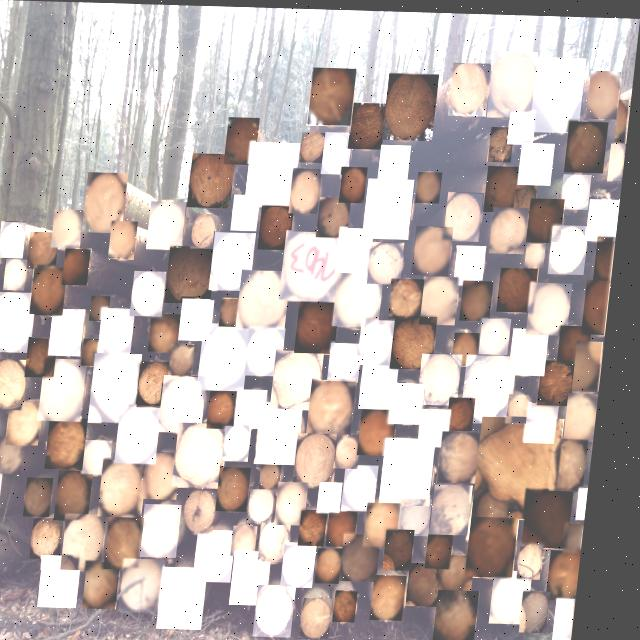wood-log: (488, 416, 571, 515), (290, 231, 348, 298), (536, 55, 586, 128), (472, 353, 524, 420), (393, 436, 443, 504), (388, 72, 438, 138), (100, 353, 147, 421), (207, 322, 255, 388), (186, 423, 237, 485), (252, 141, 300, 206), (492, 49, 537, 114), (281, 349, 330, 407), (481, 513, 528, 573), (245, 270, 294, 327), (173, 566, 218, 628), (369, 177, 416, 236), (50, 358, 94, 420), (268, 401, 311, 463), (536, 487, 582, 543), (173, 246, 219, 301), (318, 379, 363, 435), (170, 375, 214, 431), (312, 66, 356, 122), (89, 172, 130, 232), (112, 459, 155, 516), (193, 153, 238, 207), (0, 292, 41, 351), (217, 232, 259, 289), (342, 272, 388, 324), (127, 406, 169, 462), (399, 314, 443, 367), (135, 558, 177, 611), (76, 514, 116, 569), (449, 588, 491, 640), (305, 432, 346, 485), (535, 280, 576, 332), (304, 300, 345, 350), (53, 555, 93, 606), (428, 351, 468, 402), (505, 568, 544, 620), (245, 549, 282, 603), (57, 418, 96, 469), (451, 429, 490, 480), (443, 482, 482, 532), (154, 504, 192, 555), (208, 529, 246, 580), (570, 118, 608, 169), (270, 583, 307, 634), (452, 61, 489, 112), (119, 516, 155, 568), (420, 225, 457, 273), (154, 200, 190, 249), (0, 359, 35, 409), (255, 326, 292, 373), (563, 436, 597, 487), (556, 223, 592, 271), (355, 532, 391, 579), (450, 191, 486, 238), (428, 274, 463, 322), (495, 205, 532, 250), (489, 163, 525, 209), (68, 470, 101, 520), (369, 361, 405, 406), (518, 326, 554, 371), (155, 452, 190, 498), (353, 101, 388, 147), (369, 407, 404, 453), (573, 389, 605, 438), (38, 268, 72, 314), (98, 561, 131, 608), (58, 308, 91, 355), (562, 547, 593, 597), (505, 265, 541, 308), (107, 308, 141, 353), (548, 357, 582, 402), (354, 463, 387, 509), (534, 195, 568, 239), (138, 270, 171, 315), (344, 226, 377, 271), (367, 318, 400, 363), (386, 573, 419, 618), (377, 501, 412, 543), (264, 204, 298, 247), (295, 541, 328, 585), (18, 402, 51, 445), (147, 361, 180, 404), (421, 560, 453, 604), (229, 117, 260, 162), (523, 140, 556, 182), (590, 68, 620, 114), (375, 241, 408, 282), (295, 167, 325, 212), (195, 489, 227, 531), (229, 467, 260, 510), (287, 480, 318, 523), (591, 277, 616, 330), (188, 299, 220, 340), (400, 381, 432, 422), (592, 197, 624, 238), (397, 276, 429, 316), (315, 596, 346, 637), (323, 195, 354, 235), (461, 242, 491, 283), (582, 338, 607, 387), (44, 518, 74, 558), (468, 278, 498, 318), (536, 400, 566, 440), (566, 322, 597, 360), (397, 528, 426, 568), (453, 553, 487, 587), (337, 342, 368, 379), (428, 407, 459, 444), (157, 313, 187, 351), (272, 521, 302, 559), (245, 389, 275, 426), (536, 588, 563, 629), (35, 338, 64, 376), (327, 130, 353, 172), (58, 210, 87, 247), (412, 497, 442, 532), (34, 232, 63, 268), (488, 315, 517, 351), (36, 478, 63, 516), (384, 143, 413, 177), (566, 171, 594, 206), (115, 221, 142, 257), (237, 194, 264, 229), (7, 437, 33, 473), (218, 390, 243, 427), (94, 440, 122, 473), (340, 510, 368, 543), (312, 509, 338, 544), (5, 222, 30, 258), (70, 249, 95, 285), (345, 165, 370, 201), (234, 425, 260, 459), (329, 546, 354, 581), (567, 595, 588, 636), (460, 330, 486, 363), (457, 395, 483, 428), (530, 541, 555, 575), (197, 212, 221, 247), (492, 124, 516, 159), (511, 109, 537, 141), (439, 532, 464, 565), (260, 488, 285, 520), (601, 235, 620, 277), (347, 432, 370, 466), (178, 343, 202, 374), (304, 131, 329, 160), (329, 480, 353, 510), (347, 589, 370, 620), (517, 391, 541, 420), (245, 524, 268, 554), (421, 170, 444, 200), (11, 259, 33, 290), (227, 298, 250, 325), (611, 140, 628, 176), (520, 182, 540, 210), (91, 339, 111, 365), (270, 463, 291, 487), (577, 520, 595, 548), (619, 96, 629, 138), (531, 241, 550, 263), (98, 296, 116, 319), (587, 485, 598, 516)
